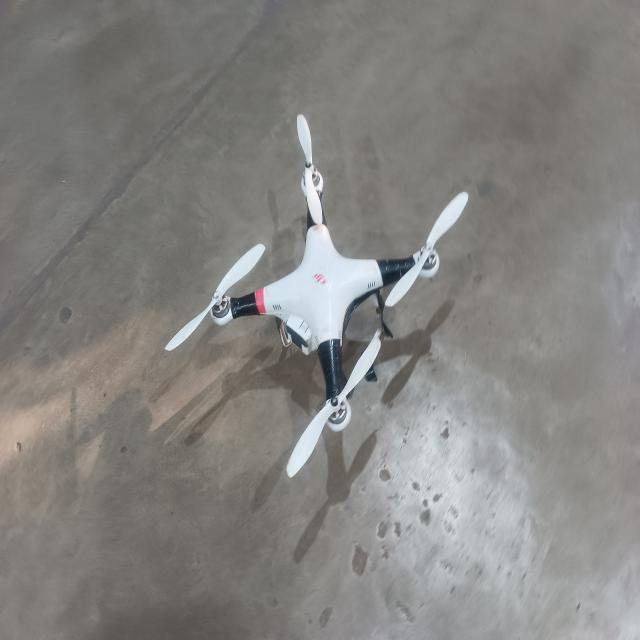drone: (132, 102, 489, 488)
